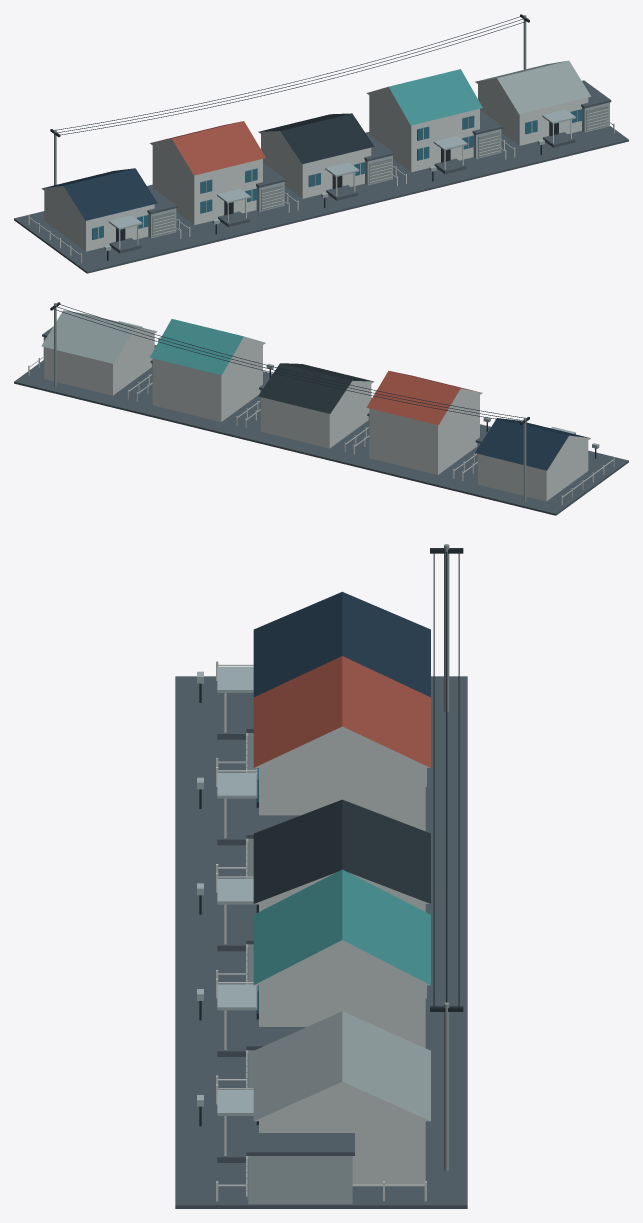
Rendered from house-row.glb.
The picture shows the model from 3 angles, top to bottom: view 1: azimuth 30°, elevation 25°; view 2: azimuth 150°, elevation 25°; view 3: azimuth 270°, elevation 25°; orthographic projection. The views are drawn at different scales.
Parts seen in each view (by area): view 1: Ground, House2, House4, House1, House3, House5, UtilityPoles; view 2: Ground, House2, House4, House3, House1, House5, UtilityPoles; view 3: Ground, House5, House2, House4, House3, House1, UtilityPoles.
Part boxes in pixels (x1,y1,x2,y2): Ground: (14, 126, 628, 273); House2: (150, 121, 289, 236); House4: (366, 69, 506, 183); House1: (28, 168, 181, 263); House3: (258, 113, 397, 210); House5: (475, 60, 614, 157); UtilityPoles: (50, 14, 529, 185); Ground: (14, 345, 628, 515); House2: (353, 370, 490, 478); House4: (136, 319, 273, 425); House3: (245, 363, 375, 452); House1: (461, 418, 614, 505); House5: (28, 310, 160, 399); UtilityPoles: (50, 302, 529, 501); Ground: (175, 676, 467, 1208); House5: (197, 1011, 430, 1204); House2: (197, 656, 430, 878); House4: (197, 869, 430, 1089); House3: (197, 799, 430, 984); House1: (197, 591, 430, 772); UtilityPoles: (430, 544, 463, 1170).
Size of the model in its own units: 60 by 9 by 14.
